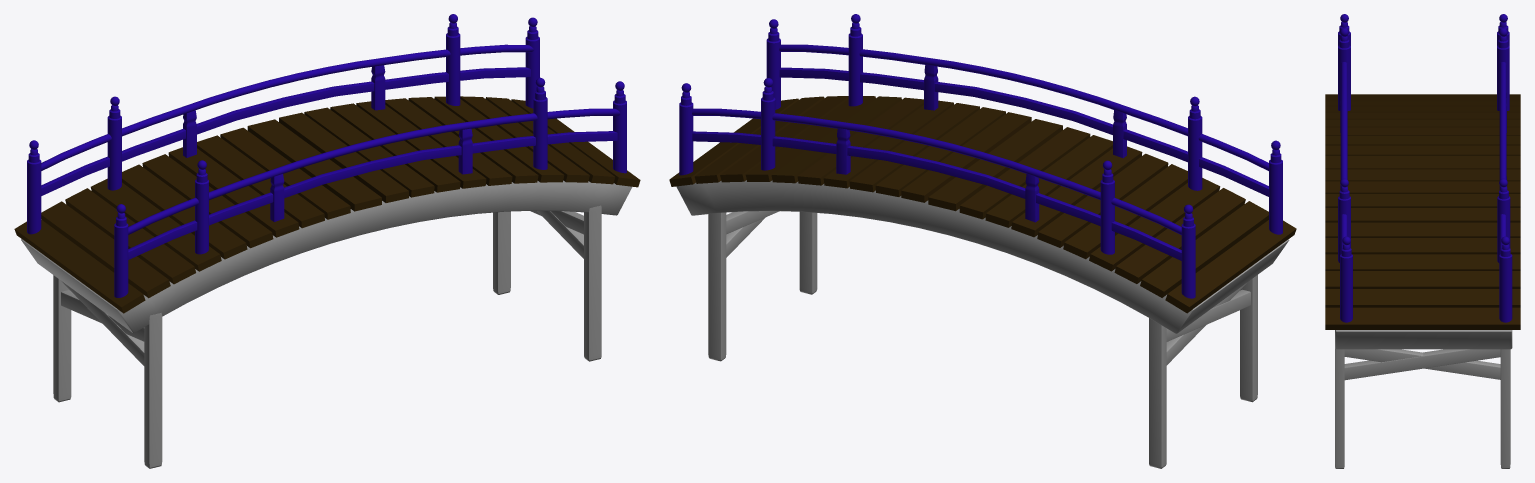
File: IslandBridge.FBX
3 views of the same model, side by side, from view 1: azimuth 30°, elevation 25°; view 2: azimuth 150°, elevation 25°; view 3: azimuth 270°, elevation 25° (orthographic). The views are drawn at different scales.
Parts seen in each view (by area): view 1: Box003, Box047, Box032, Cylinder028, Cylinder033, Box007, Box008, Box026, Box009, Box034, Box036, Box011 (+29 smaller); view 2: Box003, Box032, Box047, Cylinder033, Cylinder028, Box007, Box008, Box026, Box009, Box037, Box011, Box010 (+28 smaller); view 3: Box052, Box003, Box053, Box054, Box056, Box055, Box057, Box026, Box058, Box059, Box061, Box060 (+21 smaller).
Boxes of the visible parts, <box> form: Box003: <box>21,180,632,333</box>; Box047: <box>128,131,617,259</box>; Box032: <box>41,67,530,195</box>; Cylinder028: <box>41,44,533,170</box>; Cylinder033: <box>128,108,620,234</box>; Box007: <box>14,220,145,313</box>; Box008: <box>41,201,170,298</box>; Box026: <box>247,119,381,211</box>; Box009: <box>65,188,195,284</box>; Box034: <box>144,313,162,468</box>; Box036: <box>584,205,601,361</box>; Box011: <box>122,164,247,259</box>; Box003: <box>676,180,1289,333</box>; Box032: <box>692,131,1181,260</box>; Box047: <box>779,67,1268,196</box>; Cylinder033: <box>779,44,1268,170</box>; Cylinder028: <box>692,108,1181,234</box>; Box007: <box>1165,220,1296,313</box>; Box008: <box>1140,201,1268,297</box>; Box026: <box>928,119,1062,211</box>; Box009: <box>1114,188,1245,283</box>; Box037: <box>708,212,726,361</box>; Box011: <box>1063,164,1187,259</box>; Box010: <box>1089,178,1220,271</box>; Box052: <box>1325,307,1520,329</box>; Box003: <box>1335,330,1512,349</box>; Box053: <box>1325,289,1520,307</box>; Box054: <box>1325,271,1520,288</box>; Box056: <box>1325,238,1520,254</box>; Box055: <box>1325,254,1520,270</box>; Box057: <box>1325,222,1520,237</box>; Box026: <box>1325,156,1520,169</box>; Box058: <box>1325,208,1520,222</box>; Box059: <box>1325,194,1520,207</box>; Box061: <box>1325,169,1520,181</box>; Box060: <box>1325,181,1520,193</box>.
Size of the model in its own units: 325 by 174 by 116.
